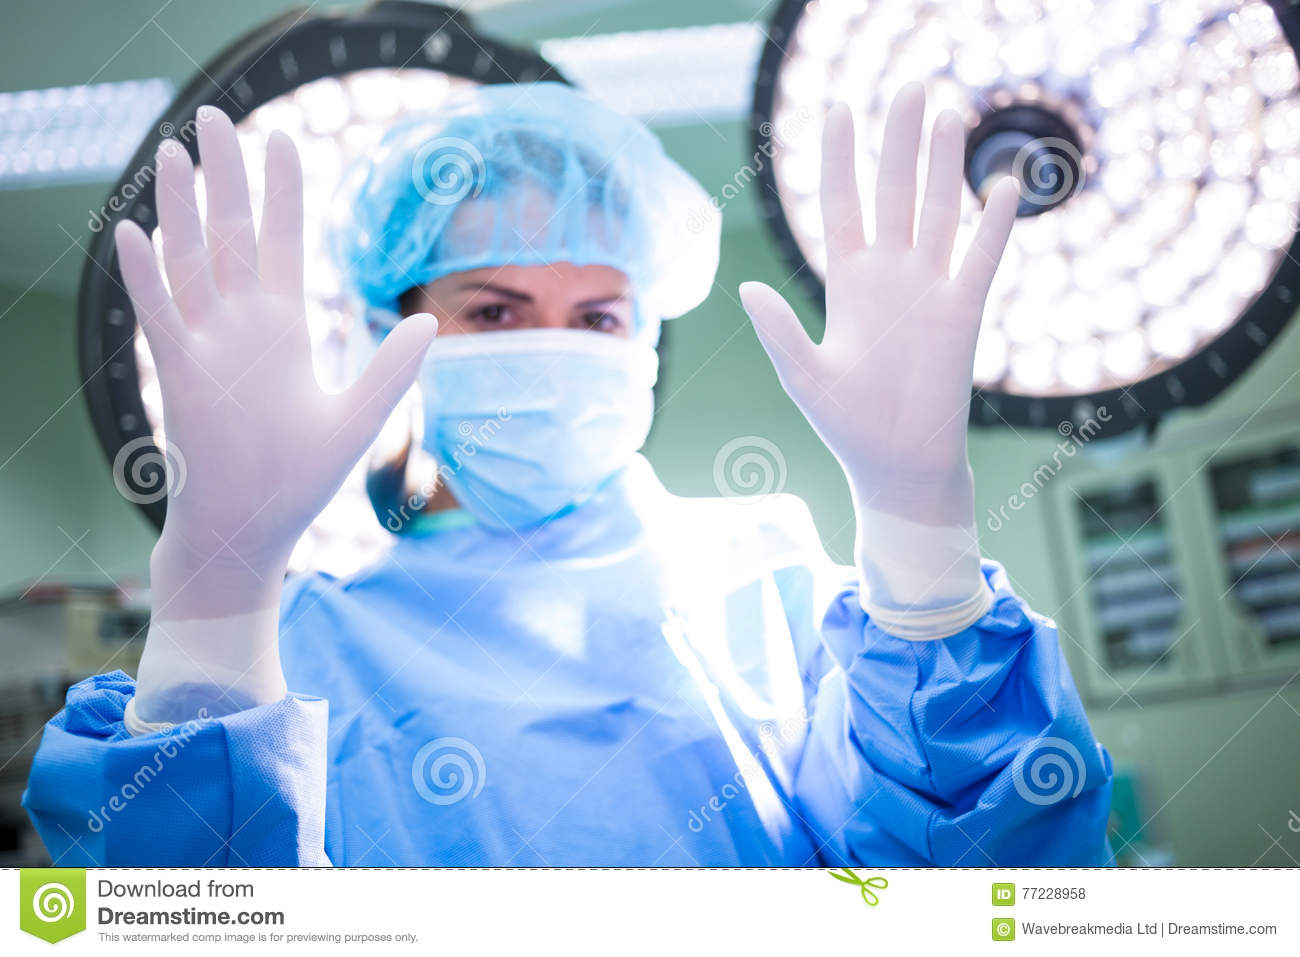mask: (410, 327, 666, 527)
